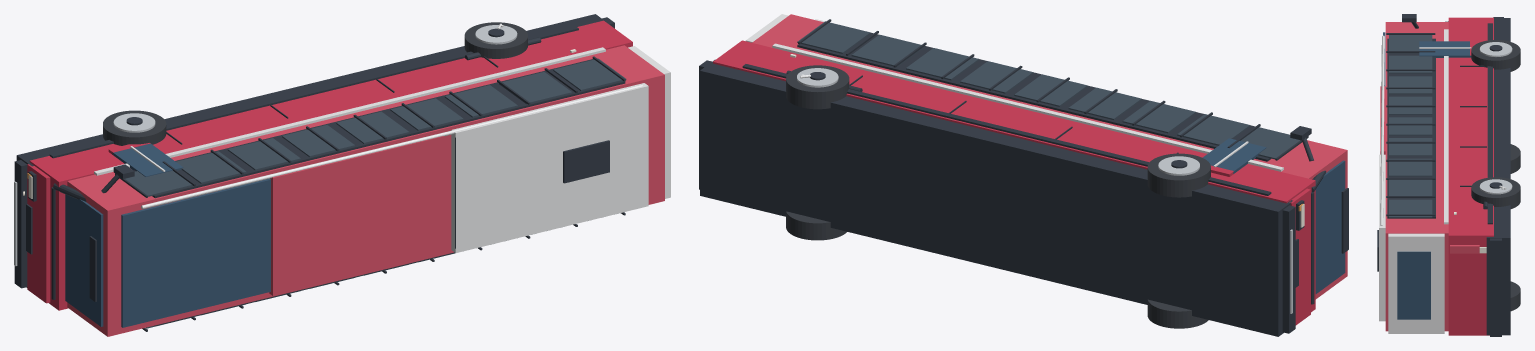
The model's file is anadolu_12_ev_detailed (1).glb.
3 renders of one model, left to right at view 1: azimuth 30°, elevation 25°; view 2: azimuth 150°, elevation 25°; view 3: azimuth 270°, elevation 25°, orthographic. The views are drawn at different scales.
Visible parts, largest first — view 1: White rear roof panel, Red center roof panel, Front panoramic roof glass, Upper passenger cabin shell, Lower red monocoque, Continuous side glazing backing 1, Front windshield main dark glass, Reinforced electric chassis, Pearl white side stripe 1, Front fascia red, Lower side black skirt, Roof edge bright trim (+20 smaller); view 2: Reinforced electric chassis, Lower red monocoque, Upper passenger cabin shell, Continuous side glazing backing 1, Front windshield main dark glass, Pearl white side stripe 1, Lower side black skirt, Axle 0 tire 1, Axle 1 tire 1, Front fascia red, Front lower bumper black, Side window pane 1-4 (+14 smaller); view 3: Lower red monocoque, Upper passenger cabin shell, Reinforced electric chassis, Rear upper white cap, Rear window, Continuous side glazing backing 1, Rear bumper, White rear roof panel, Axle 1 tire 1, Axle 0 tire 1, Pearl white side stripe 1, Lower side black skirt (+22 smaller).
Boxes of the visible parts, box(x1,y1,x2,y2) form: White rear roof panel: box(451, 83, 648, 252); Red center roof panel: box(269, 136, 444, 295); Front panoramic roof glass: box(121, 178, 270, 327); Upper passenger cabin shell: box(67, 45, 664, 336); Lower red monocoque: box(29, 20, 632, 310); Continuous side glazing backing 1: box(134, 59, 625, 198); Front windshield main dark glass: box(65, 194, 103, 326); Reinforced electric chassis: box(16, 14, 610, 287); Pearl white side stripe 1: box(94, 47, 605, 175); Front fascia red: box(27, 164, 50, 303); Lower side black skirt: box(49, 26, 578, 158); Roof edge bright trim: box(141, 84, 642, 209); Reinforced electric chassis: box(700, 59, 1292, 336); Lower red monocoque: box(713, 40, 1315, 312); Upper passenger cabin shell: box(752, 14, 1347, 299); Continuous side glazing backing 1: box(797, 32, 1270, 161); Front windshield main dark glass: box(1315, 160, 1345, 293); Pearl white side stripe 1: box(772, 43, 1283, 171); Lower side black skirt: box(742, 64, 1271, 195); Axle 0 tire 1: box(1147, 153, 1210, 197); Axle 1 tire 1: box(786, 65, 849, 109); Front fascia red: box(1289, 188, 1310, 325); Front lower bumper black: box(1282, 205, 1295, 333); Side window pane 1-4: box(1014, 74, 1087, 106); Lower red monocoque: box(1448, 17, 1493, 335); Upper passenger cabin shell: box(1385, 22, 1448, 331); Reinforced electric chassis: box(1486, 18, 1510, 335); Rear upper white cap: box(1388, 233, 1444, 333); Rear window: box(1397, 251, 1430, 319); Continuous side glazing backing 1: box(1387, 38, 1435, 218); Rear bumper: box(1490, 238, 1501, 336); White rear roof panel: box(1379, 154, 1385, 321); Axle 1 tire 1: box(1471, 177, 1520, 208); Axle 0 tire 1: box(1471, 40, 1520, 71); Pearl white side stripe 1: box(1444, 29, 1448, 224); Lower side black skirt: box(1487, 23, 1492, 224).
Size of the model in its own units: 12.29 by 3.24 by 3.31.
